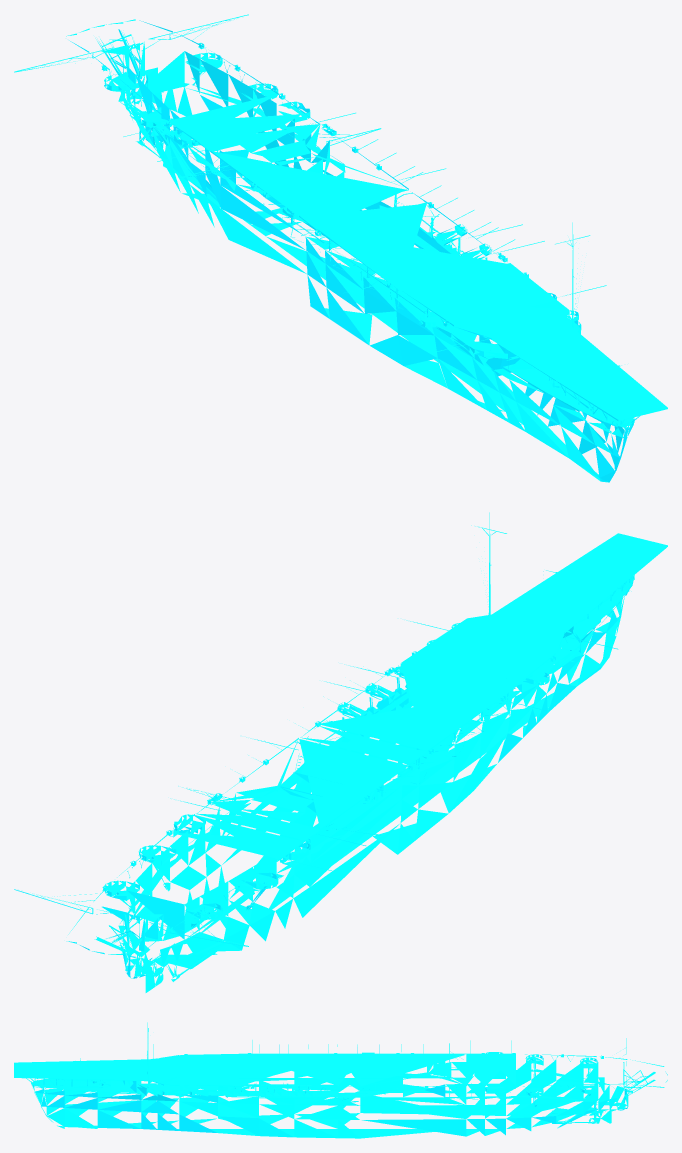
The model's file is Hosho.glb.
The picture shows the model from 3 angles, top to bottom: view 1: azimuth 30°, elevation 25°; view 2: azimuth 150°, elevation 25°; view 3: azimuth 270°, elevation 25°; orthographic projection. The views are drawn at different scales.
Size of the model in its own units: 3.04 by 2.45 by 12.25.
